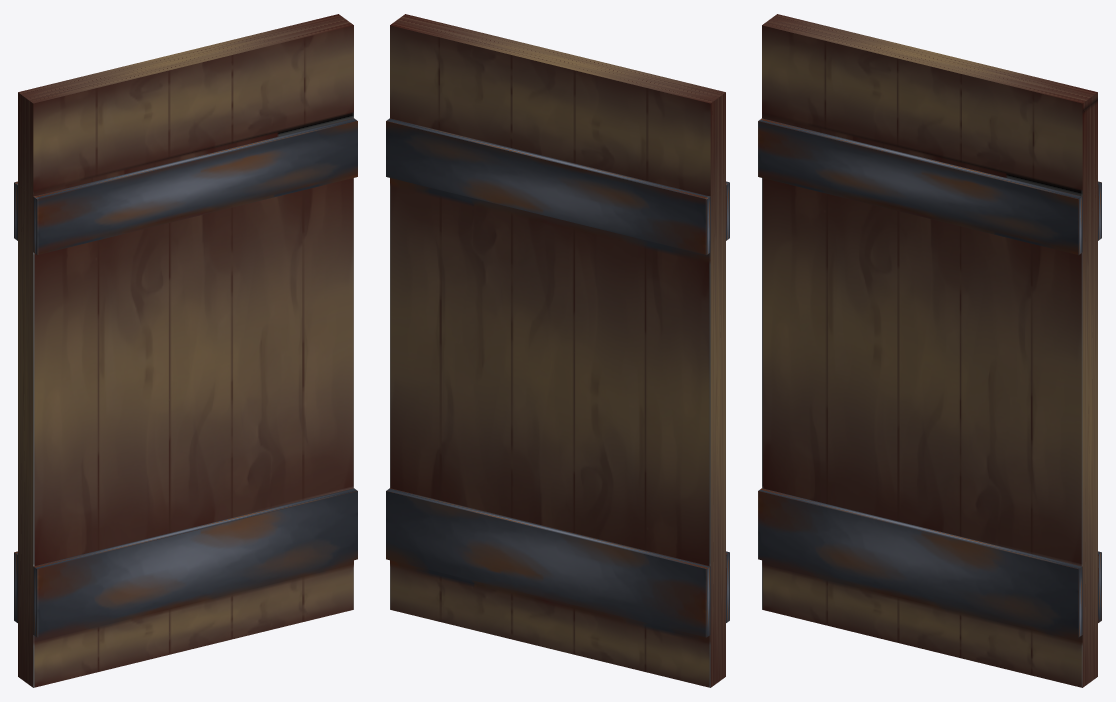
File: Door.fbx
The picture shows the model from 3 angles, left to right: view 1: azimuth 30°, elevation 25°; view 2: azimuth 150°, elevation 25°; view 3: azimuth 330°, elevation 25°; orthographic projection.
Visible parts, largest first — view 1: pCube1; view 2: pCube1; view 3: pCube1.
Part boxes in pixels (x1,y1,x2,y2): pCube1: (14, 14, 357, 687); pCube1: (386, 14, 729, 687); pCube1: (758, 14, 1101, 687).
Size of the model in its own units: 72.81 by 127 by 9.12.
1 material, 1 textured.
